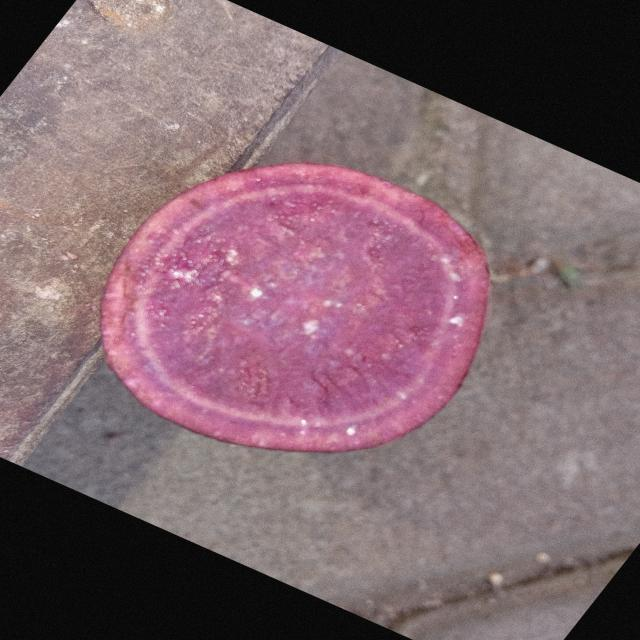Healthy Sweet Potato: (100, 164, 490, 451)
